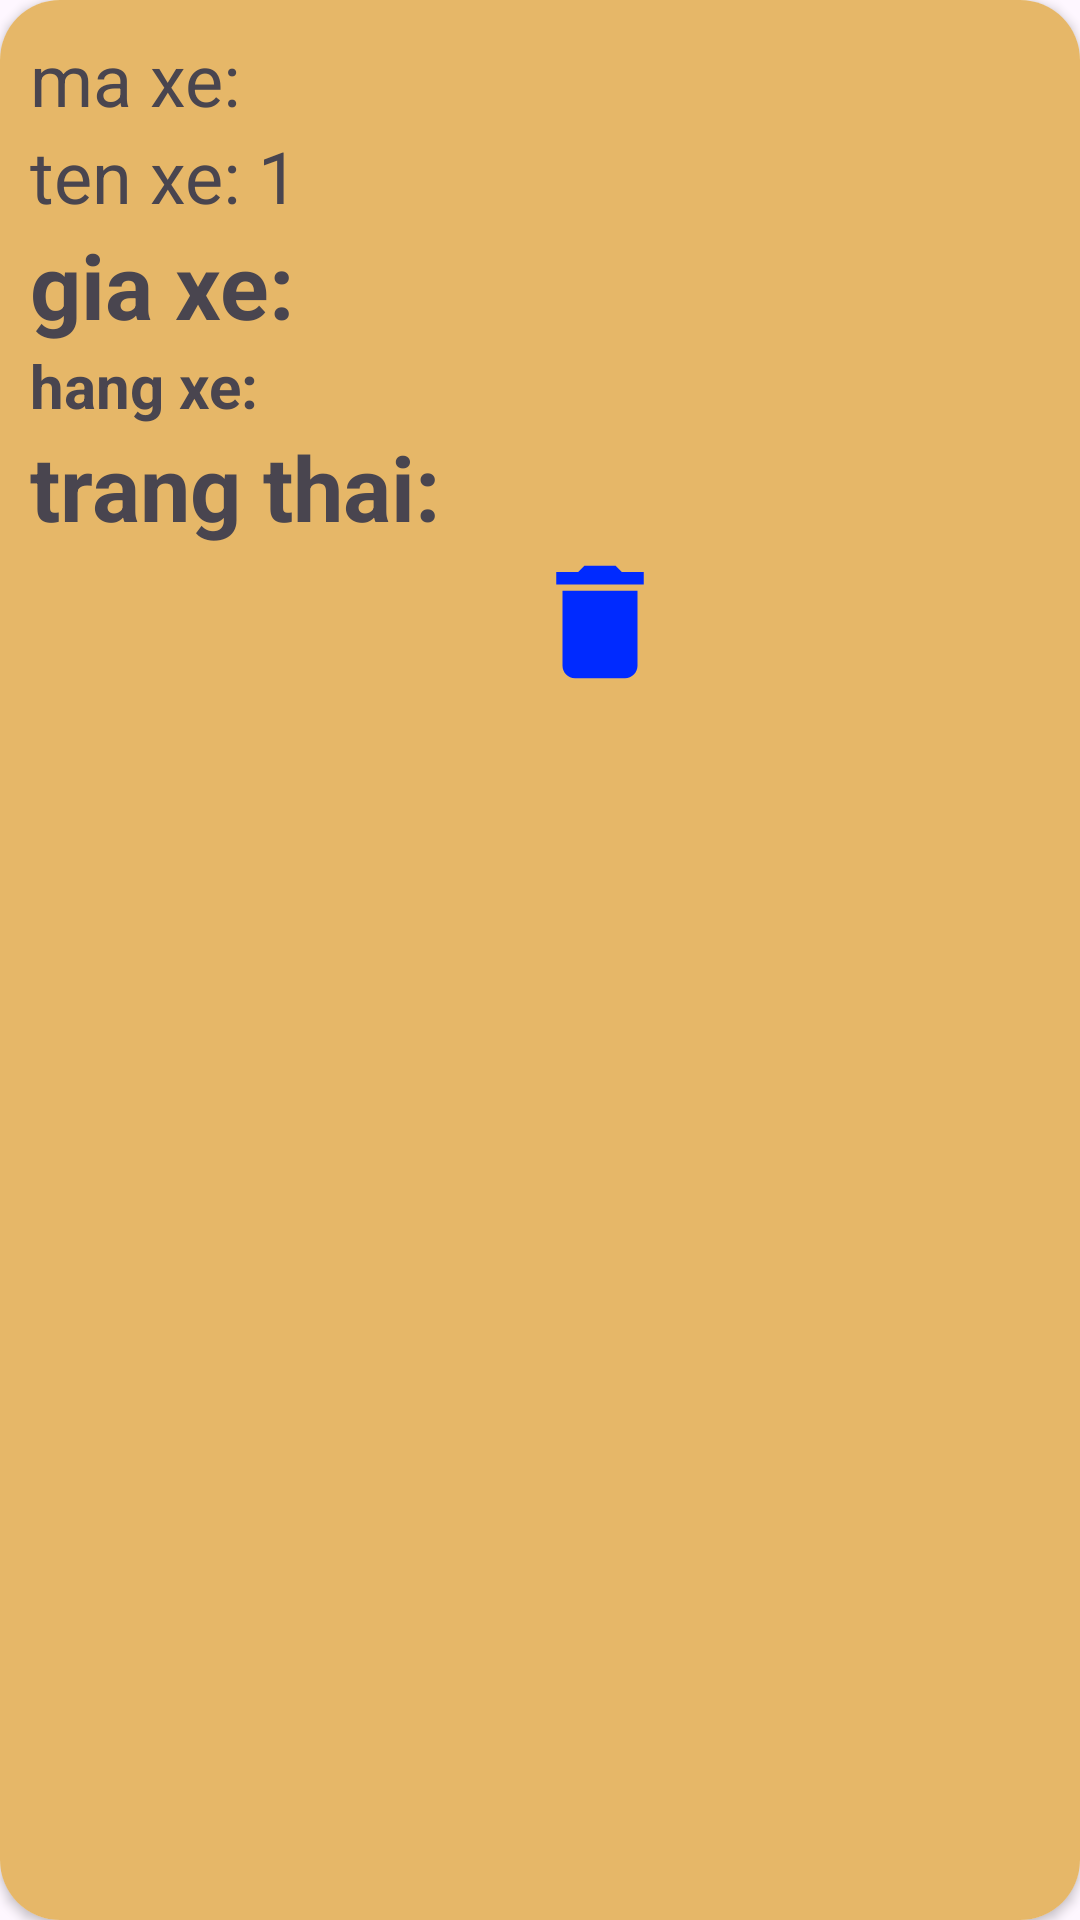

Where to tap for icons on this 1080 x 1920 app screen, as [x,y]:
delete: [600,622]
